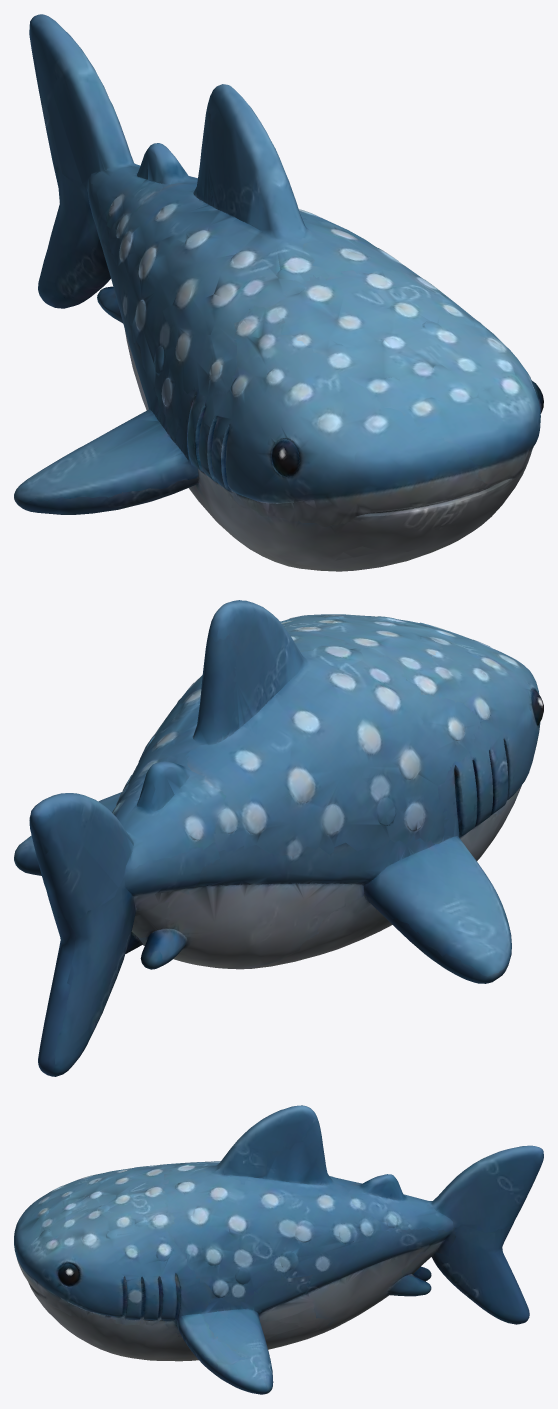
The model's file is whaleshark_pbr.glb.
3 renders of one model, top to bottom at view 1: azimuth 30°, elevation 25°; view 2: azimuth 150°, elevation 25°; view 3: azimuth 270°, elevation 25°, orthographic. The views are drawn at different scales.
Visible parts, largest first — view 1: model.019; view 2: model.019; view 3: model.019.
Part boxes in pixels (x1,y1,x2,y2): model.019: (14, 14, 543, 571); model.019: (14, 600, 543, 1076); model.019: (14, 1105, 543, 1394).
Size of the model in its own units: 1.48 by 1.11 by 2.21.
1 material, 1 textured.
